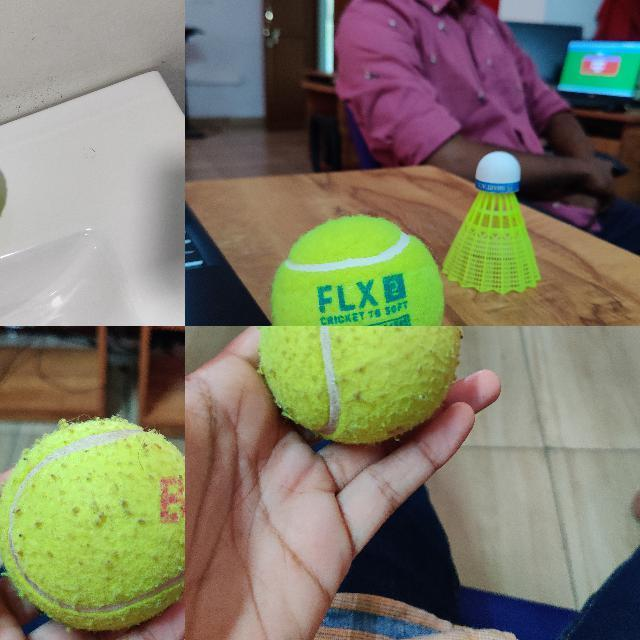tennis-ball: (0, 418, 184, 631), (257, 326, 463, 445), (271, 217, 443, 325)
